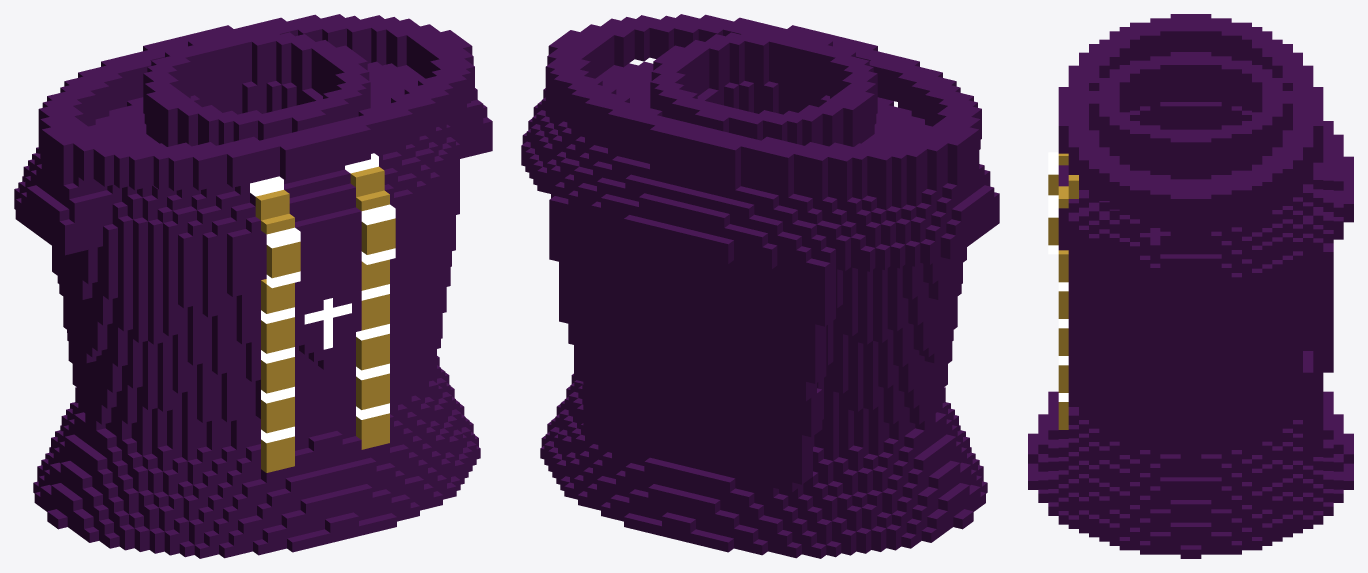
The model's file is cloth_epic_chest.glb.
The picture shows the model from 3 angles, left to right: view 1: azimuth 30°, elevation 25°; view 2: azimuth 150°, elevation 25°; view 3: azimuth 270°, elevation 25°; orthographic projection. The views are drawn at different scales.
Parts seen in each view (by area): view 1: cloth_epic_chest; view 2: cloth_epic_chest; view 3: cloth_epic_chest.
Boxes of the visible parts, x1,y1,x2,y2 form: cloth_epic_chest: (14,14,492,558); cloth_epic_chest: (521,14,999,558); cloth_epic_chest: (1028,14,1353,558).
Bounding box in the file's own units: 0.54 × 0.48 × 0.384.
